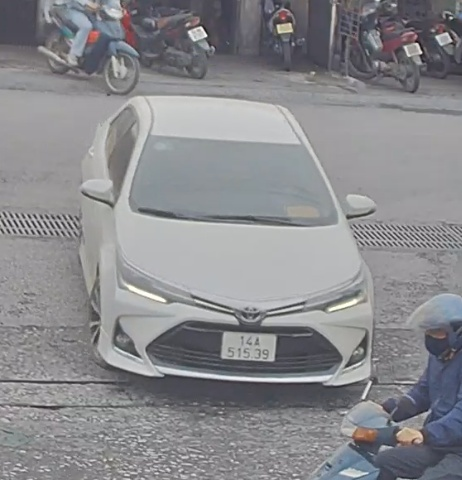vehicle plate: (218, 328, 283, 366)
